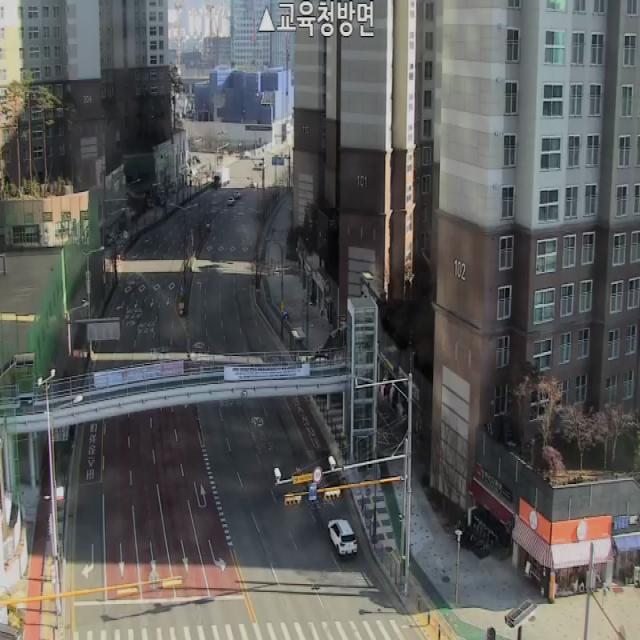Car: (328, 519, 358, 558), (227, 196, 234, 206), (234, 191, 242, 199)
Truck: (214, 168, 230, 189)
